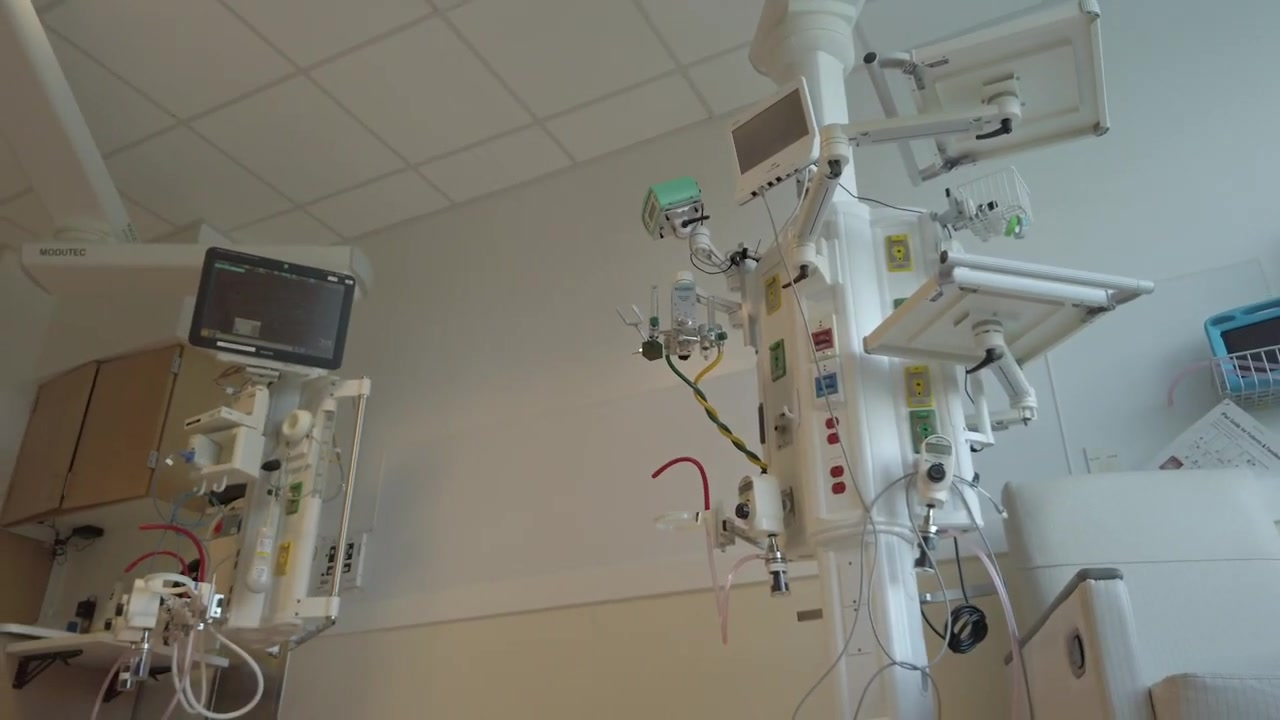bedside_monitor: (183, 246, 357, 371)
cabinet: (12, 343, 223, 531)
door_handle: (63, 471, 77, 498)
sofa: (999, 466, 1280, 720)
